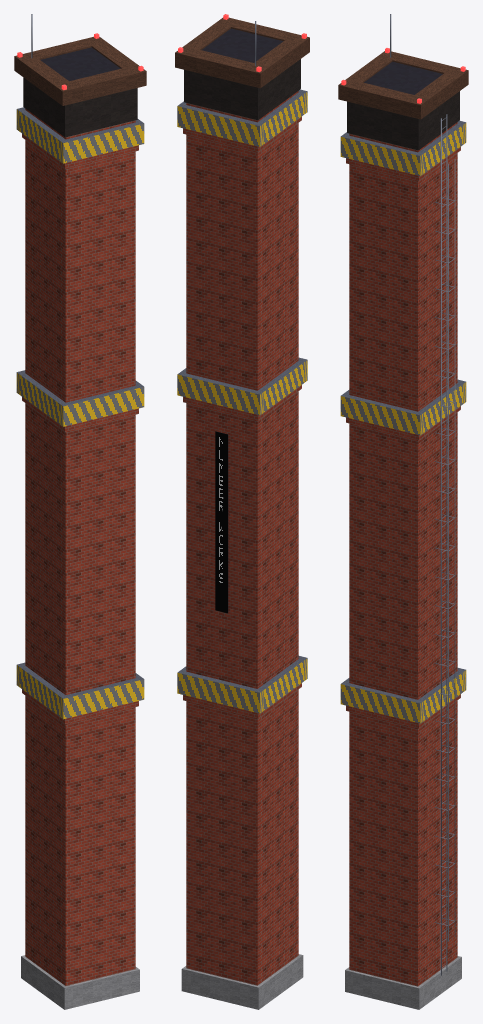
The model's file is p_jb_stack.glb.
The picture shows the model from 3 angles, left to right: view 1: azimuth 30°, elevation 25°; view 2: azimuth 150°, elevation 25°; view 3: azimuth 330°, elevation 25°; orthographic projection. The views are drawn at different scales.
Visible parts, largest first — view 1: p_jb_stack_lod0; view 2: p_jb_stack_lod0; view 3: p_jb_stack_lod0.
Part boxes in pixels (left/top/right/bottom): p_jb_stack_lod0: left=14, top=14, right=146, bottom=1009; p_jb_stack_lod0: left=175, top=14, right=309, bottom=1009; p_jb_stack_lod0: left=338, top=14, right=468, bottom=1009.
Size of what is drawn, in the model's own units: 6.53 by 66 by 6.
Materials: 3 (2 with a texture image).
